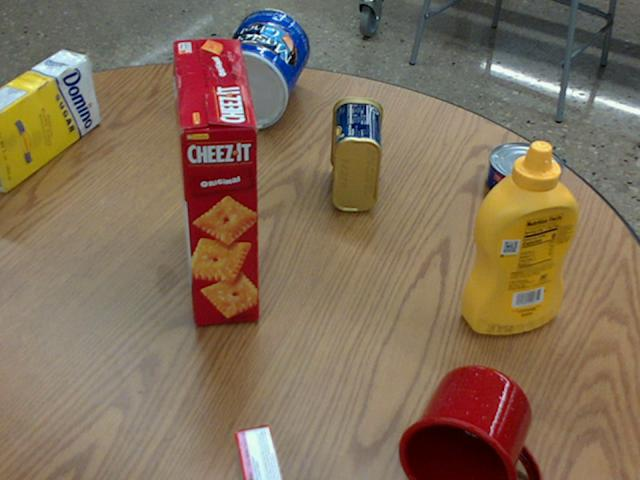cracker_box: (174, 41, 262, 325)
gelatin_box: (231, 427, 278, 479)
master_chef_can: (204, 8, 308, 128)
mug: (398, 366, 539, 479)
mustard_bottle: (460, 141, 578, 333)
potted_meat_can: (330, 96, 381, 210)
sugar_box: (0, 49, 97, 191)
tuna_fish_can: (485, 142, 561, 205)
